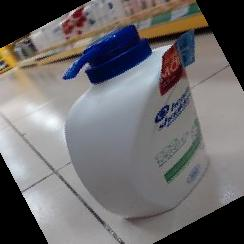h_s: (57, 24, 214, 224)
